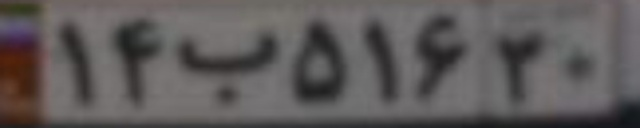0: (556, 50, 599, 79)
1: (59, 22, 98, 107), (361, 17, 395, 102)
2: (497, 30, 542, 101)
4: (111, 20, 158, 109)
5: (287, 17, 345, 100)
6: (410, 16, 477, 97)
be: (173, 26, 274, 104)
